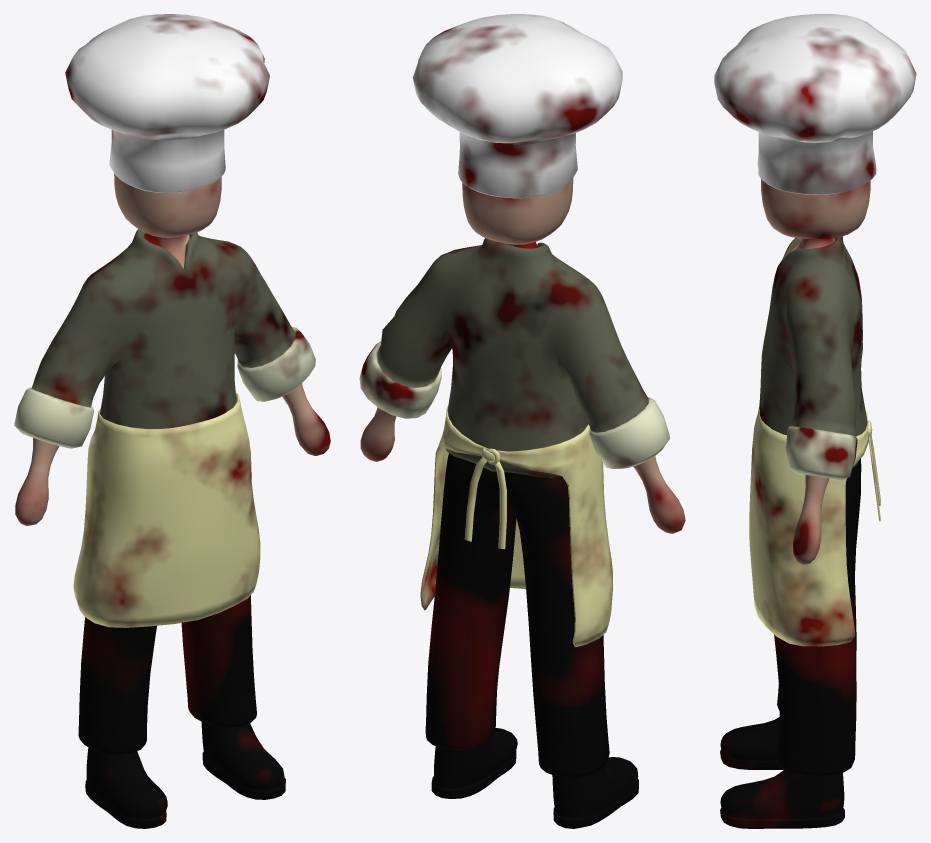
File: chef.fbx
The picture shows the model from 3 angles, left to right: view 1: azimuth 30°, elevation 25°; view 2: azimuth 150°, elevation 25°; view 3: azimuth 270°, elevation 25°; orthographic projection. The views are drawn at different scales.
Visible parts, largest first — view 1: Cube.007, Plane.001, Circle.015; view 2: Cube.007, Circle.015, Plane.001; view 3: Cube.007, Circle.015, Plane.001.
Boxes of the visible parts, box(x1,y1,x2,y2) form: Cube.007: box(14, 173, 330, 828); Plane.001: box(73, 392, 260, 627); Circle.015: box(65, 14, 269, 192); Cube.007: box(359, 178, 685, 828); Circle.015: box(412, 14, 622, 198); Plane.001: box(420, 405, 612, 646); Cube.007: box(720, 179, 870, 828); Circle.015: box(714, 14, 916, 194); Plane.001: box(749, 403, 880, 646).
Size of the model in its own units: 0.9811 by 2.25 by 0.5441.
2 materials, 1 textured.
